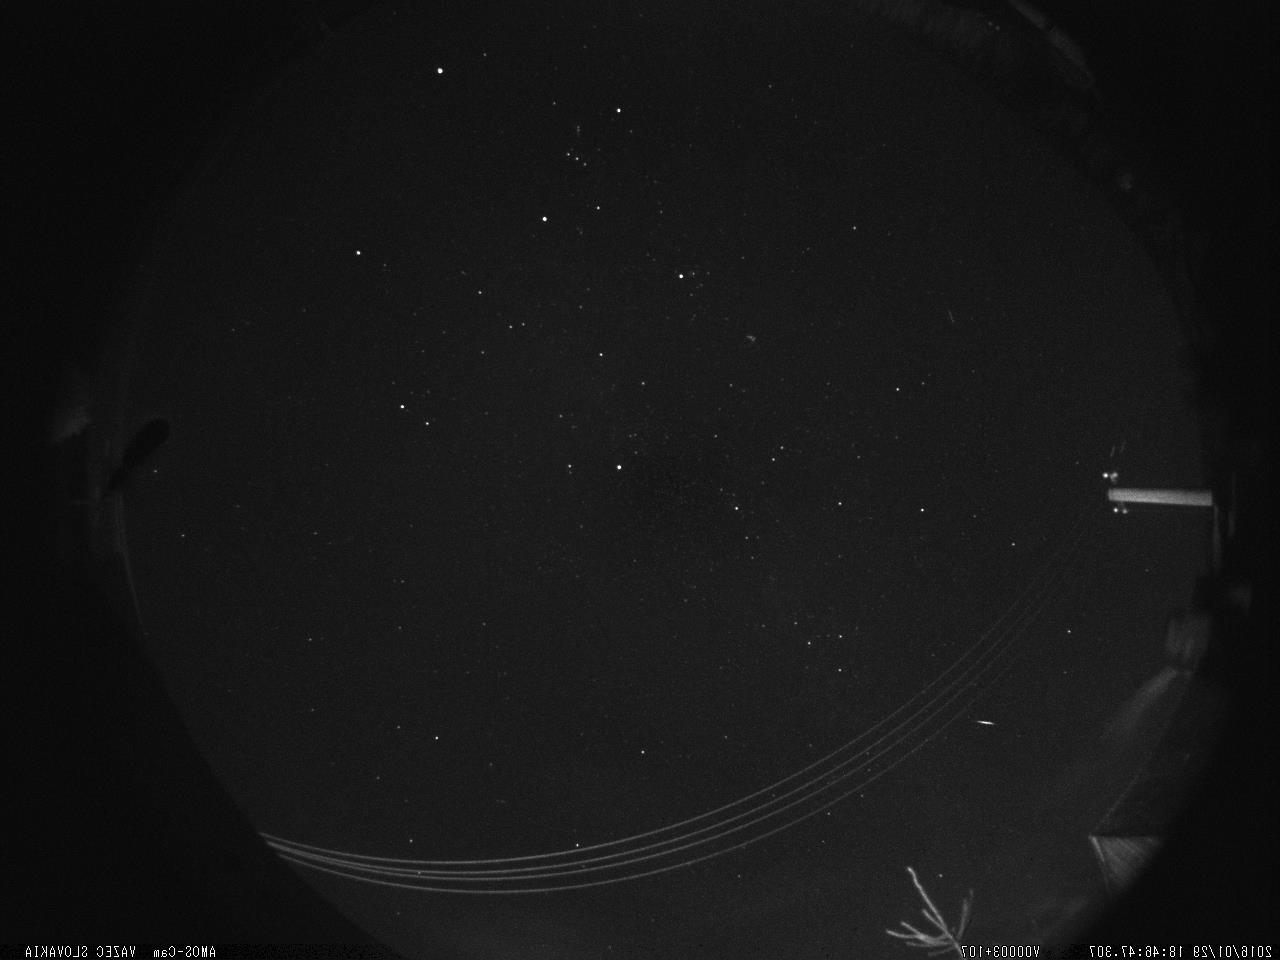meteor: (970, 717, 1001, 727)
